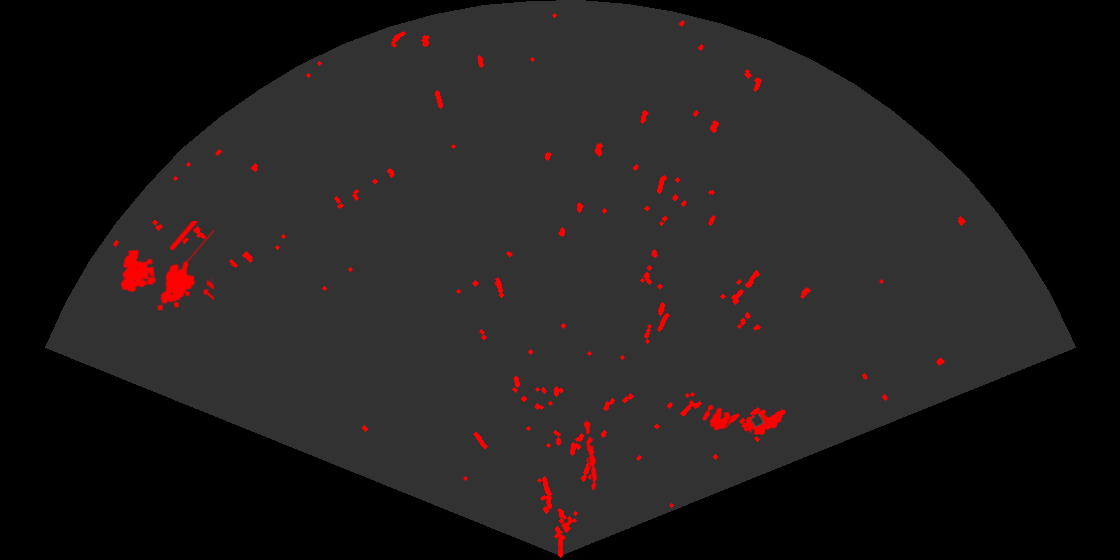AUV: (740, 408, 787, 437)
ball: (701, 403, 732, 432)
cage: (119, 221, 214, 312)
chain: (581, 418, 599, 492)
